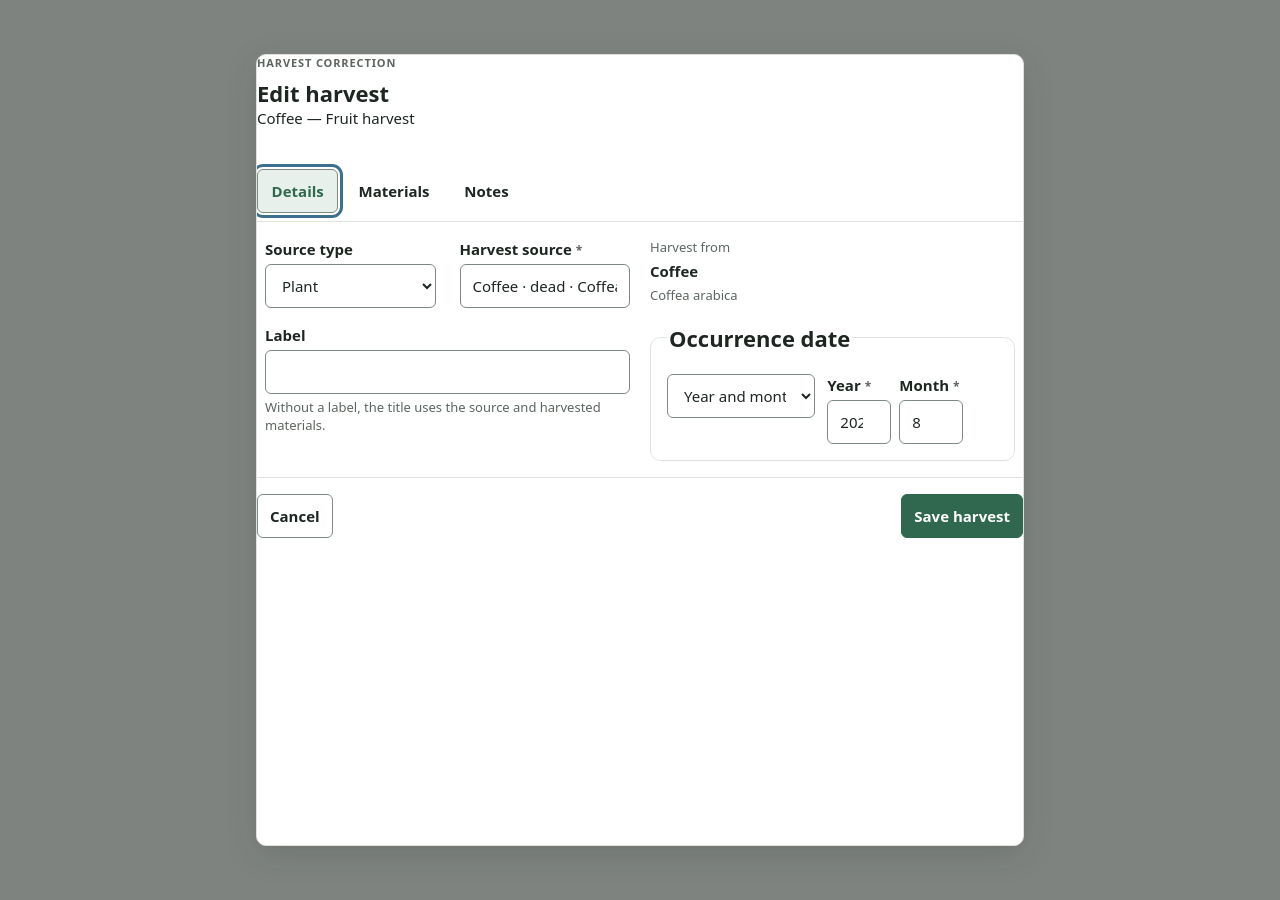
Test case: Atomic Harvest form › edits source type while retaining item UUID and identifies row errors
Expected: the dropdown labelled "Harvest source" is shown, [460,264,630,308]
Select "Plant group" in the dropdown labelled "Source type": (350, 286) [265,264,436,308]
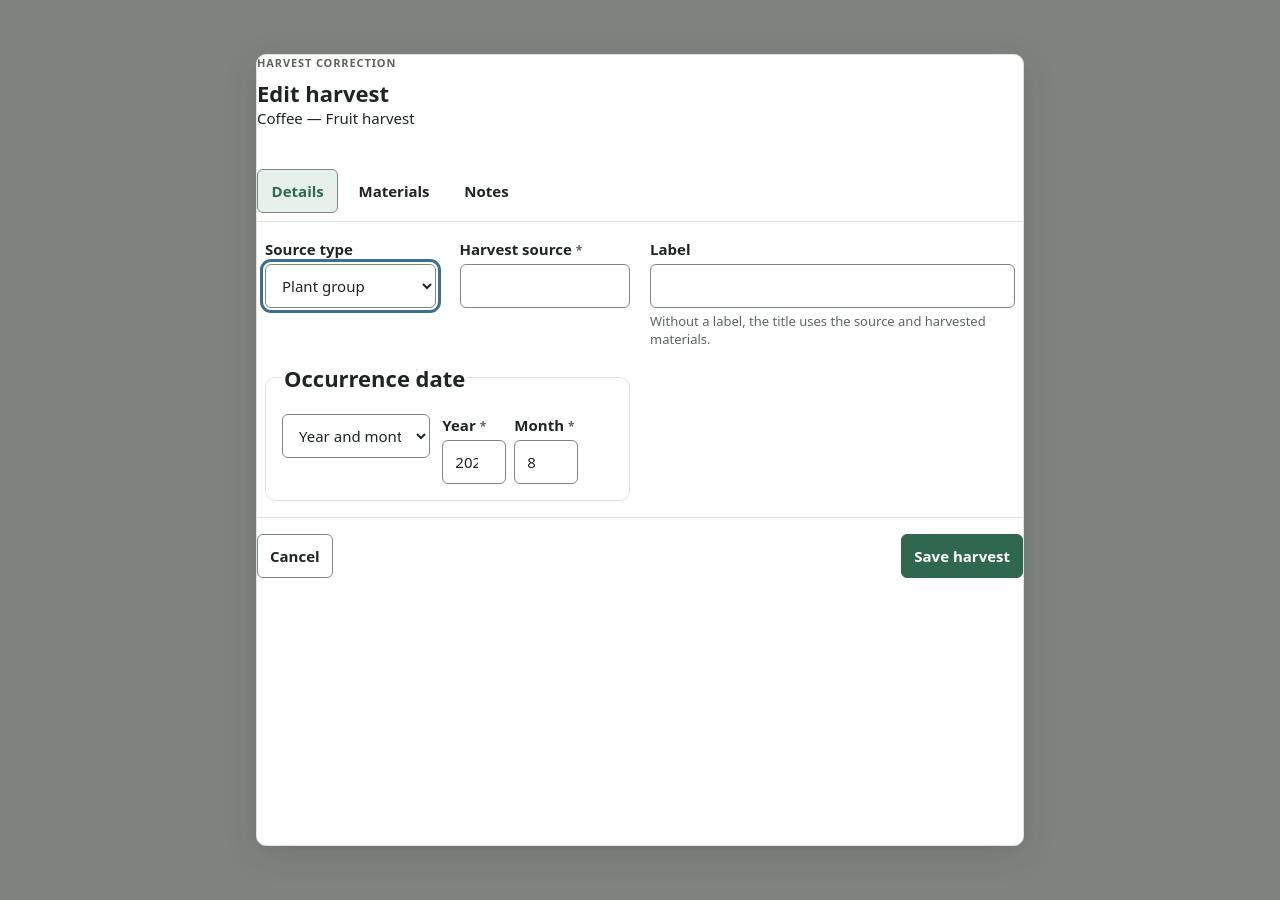
Click the dropdown labelled "Harvest source": (545, 286) [460,264,630,308]
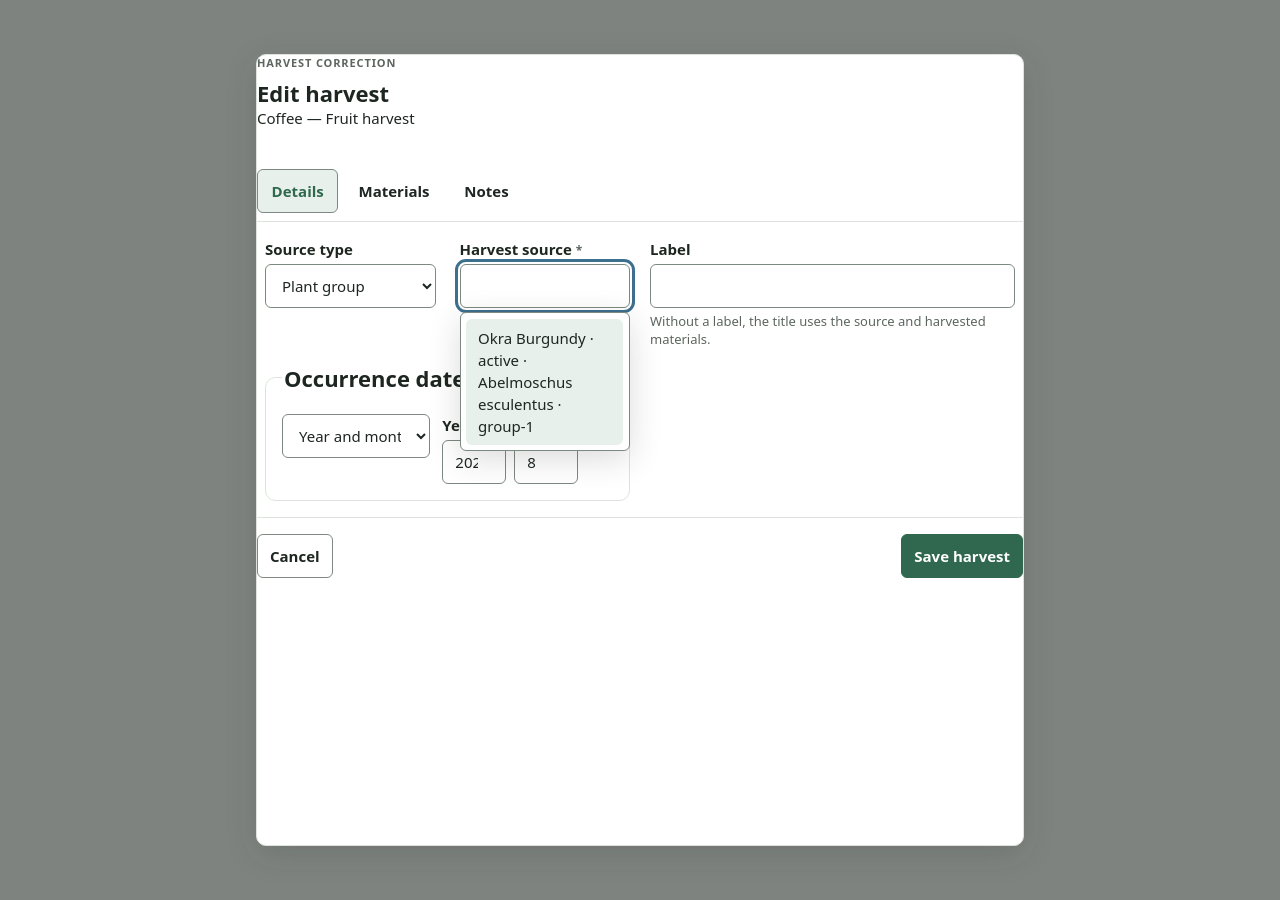
Click the button "Okra Burgundy · active · Abelmoschus esculentus · group-1": (545, 382) [466,319,623,445]
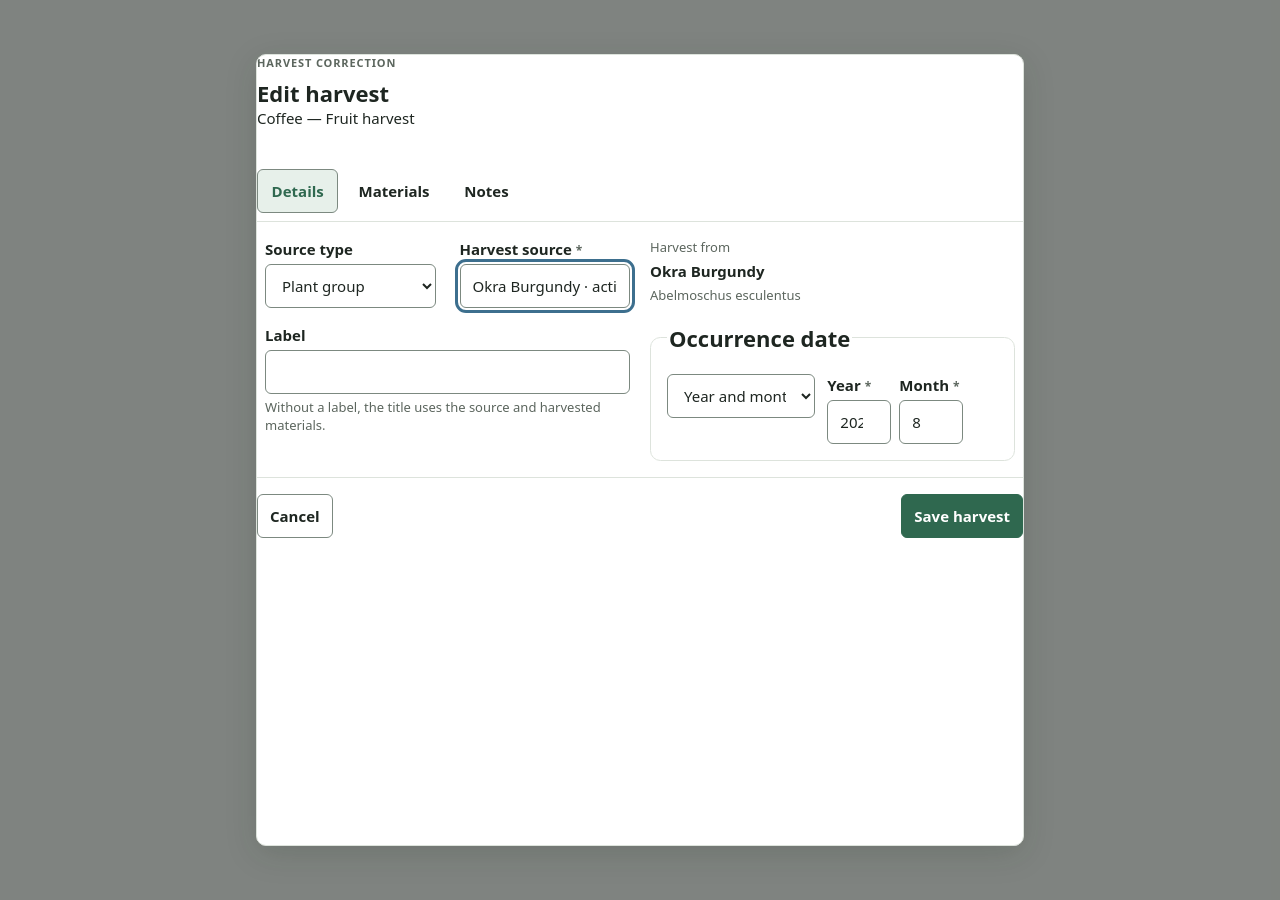
Click the button "Save harvest": (962, 516) [901,494,1023,538]
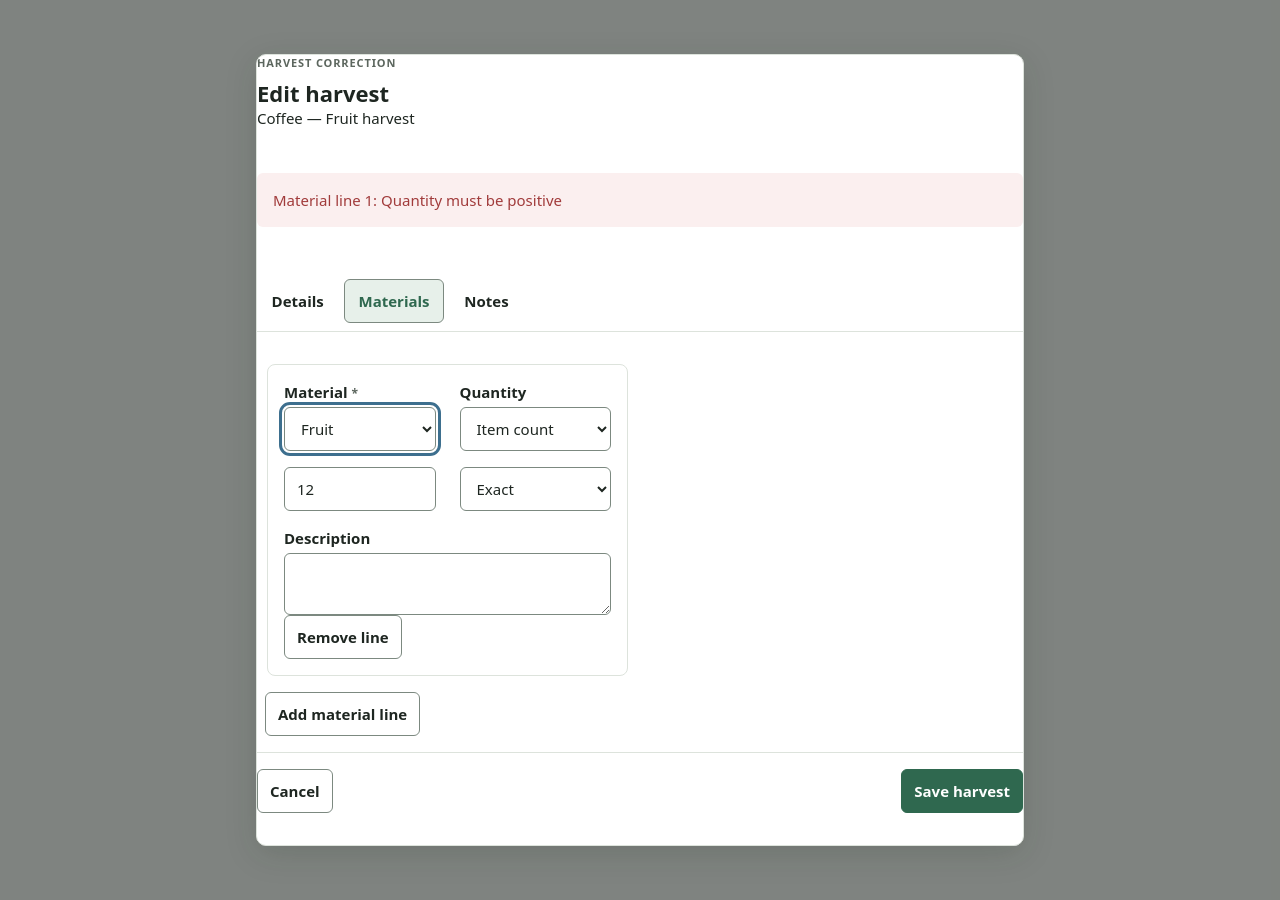
Expected: the message reads "Material line 1: Quantity must be positive", [273,190,562,210]
